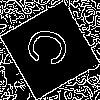C: (25, 25, 79, 72)
